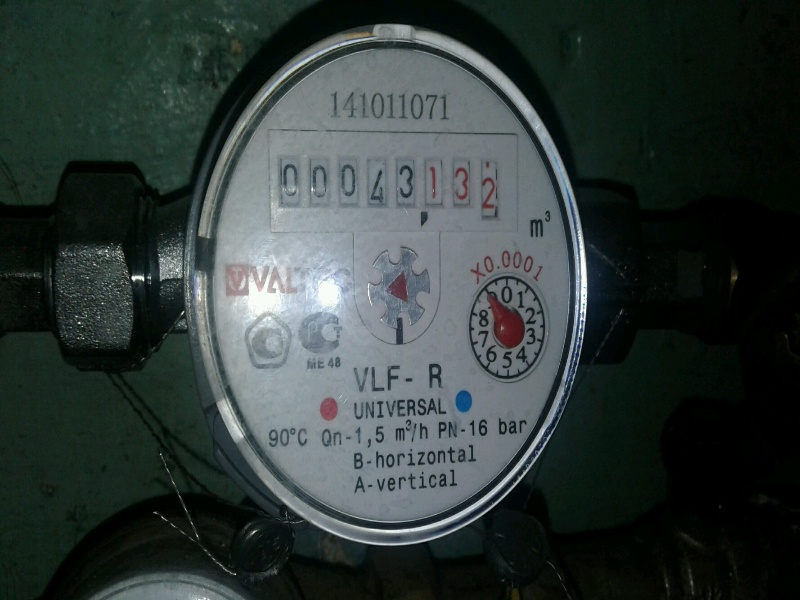meter: (266, 137, 509, 228)
